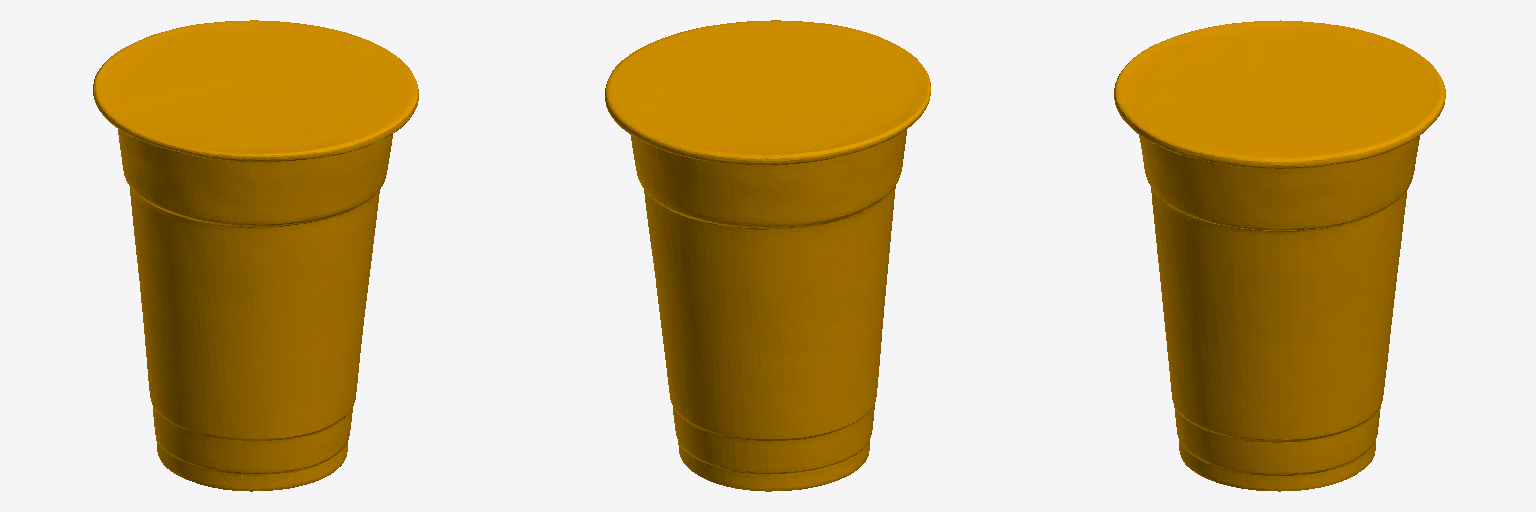
The robot description file, URDF, robot "sample":
<?xml version="1.0" ?>
<robot name="sample">
   <link name="sample">
      <visual>
         <origin xyz="0 0 0" rpy="1.5708 0.0 0.0"/>
         <geometry>
            <mesh filename="mesh/sample.obj" scale="1.0 1.0 1.0"/>
         </geometry>
      </visual>
      <collision>
         <origin xyz="0 0 0" rpy="1.5708 0.0 0.0"/>
         <geometry>
            <mesh filename="mesh/sample_collision.obj" scale="1.0 1.0 1.0"/>
         </geometry>
         <gazebo>
            <mu1>0.40</mu1>
            <mu2>0.30</mu2>
         </gazebo>
      </collision>
      <inertial>
         <mass value="0.0750"/>
         <origin xyz="0 0 0"/>
         <inertia ixx="1.0" ixy="0.0" ixz="0.0" iyy="1.0" iyz="0.0" izz="1.0"/>
      </inertial>
      <extra_info>
         <scale>0.135000</scale>
         <version>v0.1.7</version>
         <category>bottle drink</category>
         <description>white paper cup with black dots and red logo</description>
         <min_height>0.12</min_height>
         <max_height>0.15</max_height>
         <real_height>0.135</real_height>
         <min_mass>0.05</min_mass>
         <max_mass>0.1</max_mass>
         <color>white</color>
         <rgba>[0.95, 0.95, 0.95, 1.0]</rgba>
         <generate_time>20260526164225</generate_time>
         <gs_model>mesh/sample_gs.ply</gs_model>
      </extra_info>
   </link>
   <custom_data>
      <quality>
         <MeshGeoChecker>YES</MeshGeoChecker>
         <ImageSegChecker>NO, segmentation has artifacts and incomplete edges, especially at the top and right side.</ImageSegChecker>
         <ImageAestheticChecker>4.319690108299255</ImageAestheticChecker>
         <overall>NO</overall>
      </quality>
   </custom_data>
</robot>

--- Render facts (derived) ---
Views: 3 orthographic renders of the robot side by side, from view 1: azimuth 30°, elevation 25°; view 2: azimuth 150°, elevation 25°; view 3: azimuth 270°, elevation 25°.
Robot: sample — 1 links, 0 joints (none); root link sample; default pose: every joint at zero.
Visible links, largest first — view 1: sample; view 2: sample; view 3: sample.
Boxes of the visible links, x1,y1,x2,y2 form: sample: (93,20,418,491); sample: (605,20,930,491); sample: (1114,20,1445,491).
Size in the robot's own frame: 0.1099 by 0.1111 by 0.135 metres.
1 mesh visuals loaded from 1 distinct referenced files (1 OBJ).
